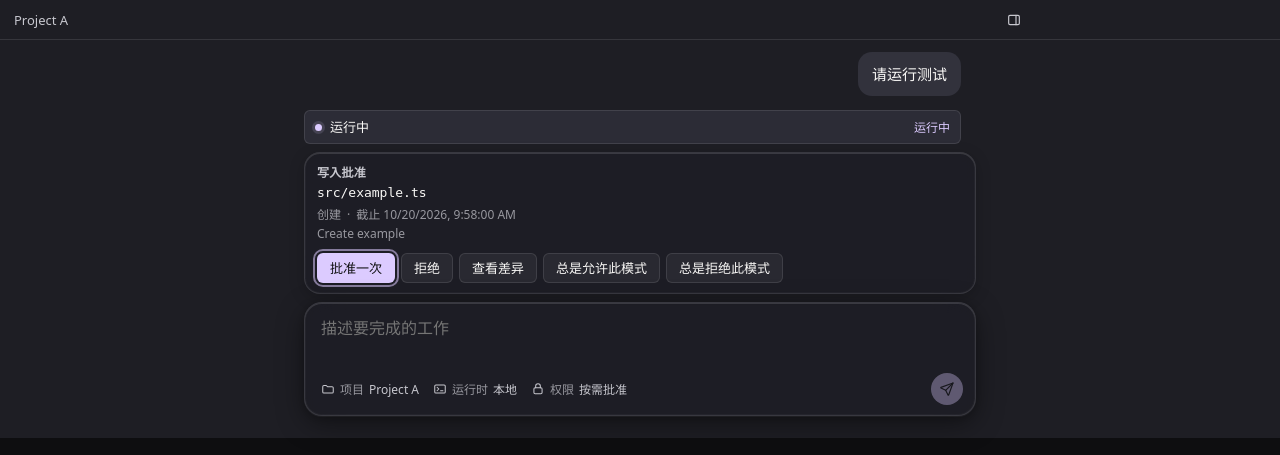
C4 workbench process integration — write path regression › preserves write bar, grant decide, and governed diff review
The image size is (1280, 455).
Expected: the element with test id "write-approval-bar" is shown, [304,152,976,294]
Expected: the element with test id "write-approval-path" reads "src/example.ts", [317,185,427,200]
Click the button with test id "write-approval-review-diff" at coordinates (498, 268), box [459,253,537,283]
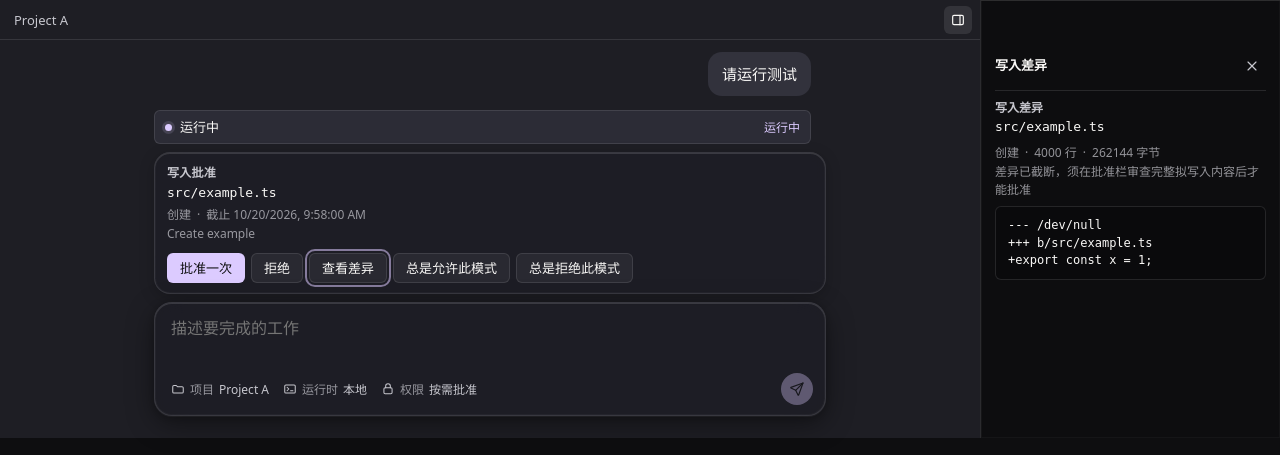
Expected: the element with test id "write-diff-preview" is shown, [995,99,1266,280]
Click the button with test id "write-approval-approve" at coordinates (206, 268), box [167,253,245,283]
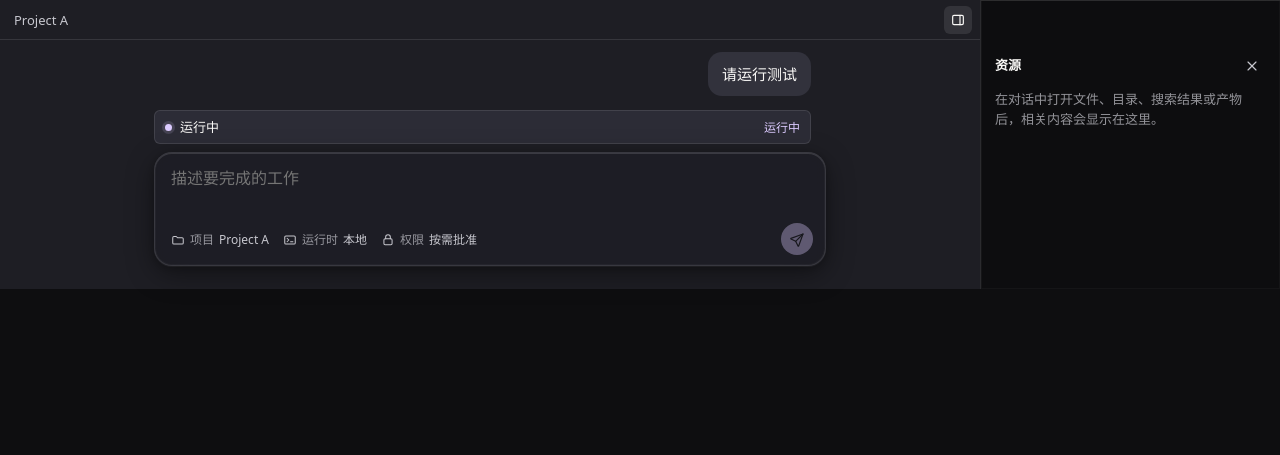
Expected: the element with test id "write-approval-bar" is gone
